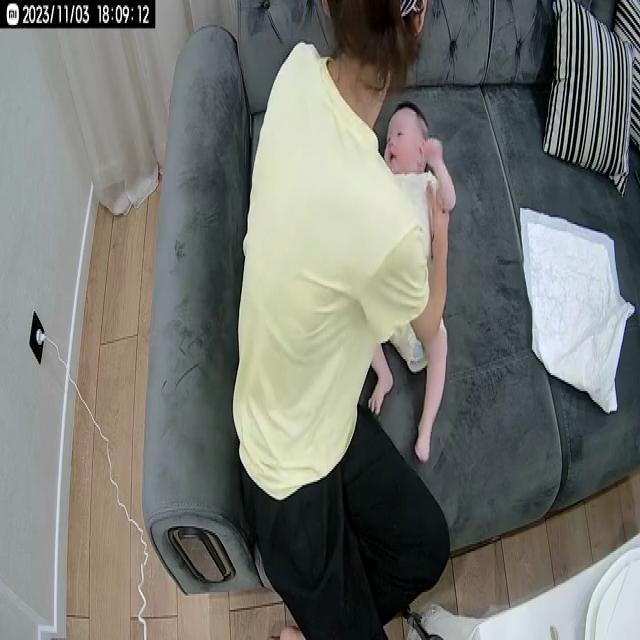baby: (362, 94, 457, 465)
